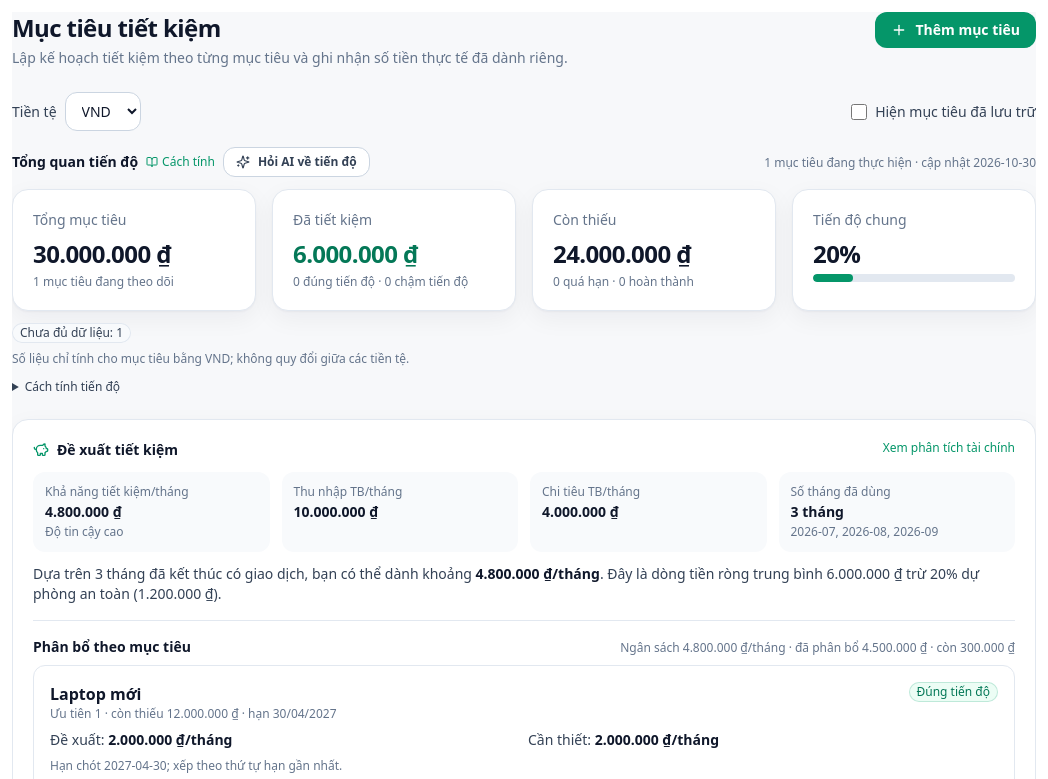
Test: GoalsPage — list, progress and recommendations › summarises one currency at a time and never converts between currencies
This screenshot has width=1048, height=779.
expect the text "30.000.000 ₫" is shown: met, box [33, 237, 171, 270]
expect the text "Số liệu chỉ tính cho mục tiêu bằng VND" is shown: met, box [12, 350, 409, 367]
Step 1. Select "USD" in the dropdown named "Lọc theo tiền tệ" → (102, 112), box [64, 92, 140, 131]
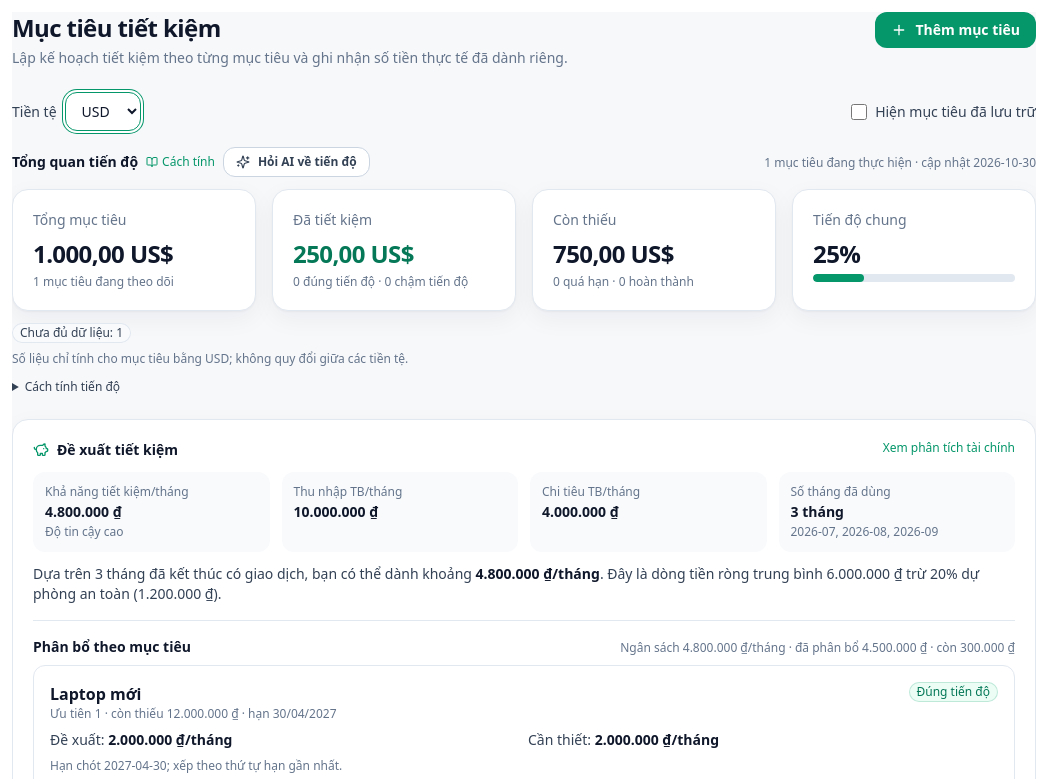
expect the text "1.000,00 US$" is shown: met, box [33, 237, 173, 270]
expect the text "250,00 US$" is shown: met, box [293, 237, 414, 270]
expect the text "Số liệu chỉ tính cho mục tiêu bằng USD" is shown: met, box [12, 350, 408, 367]
